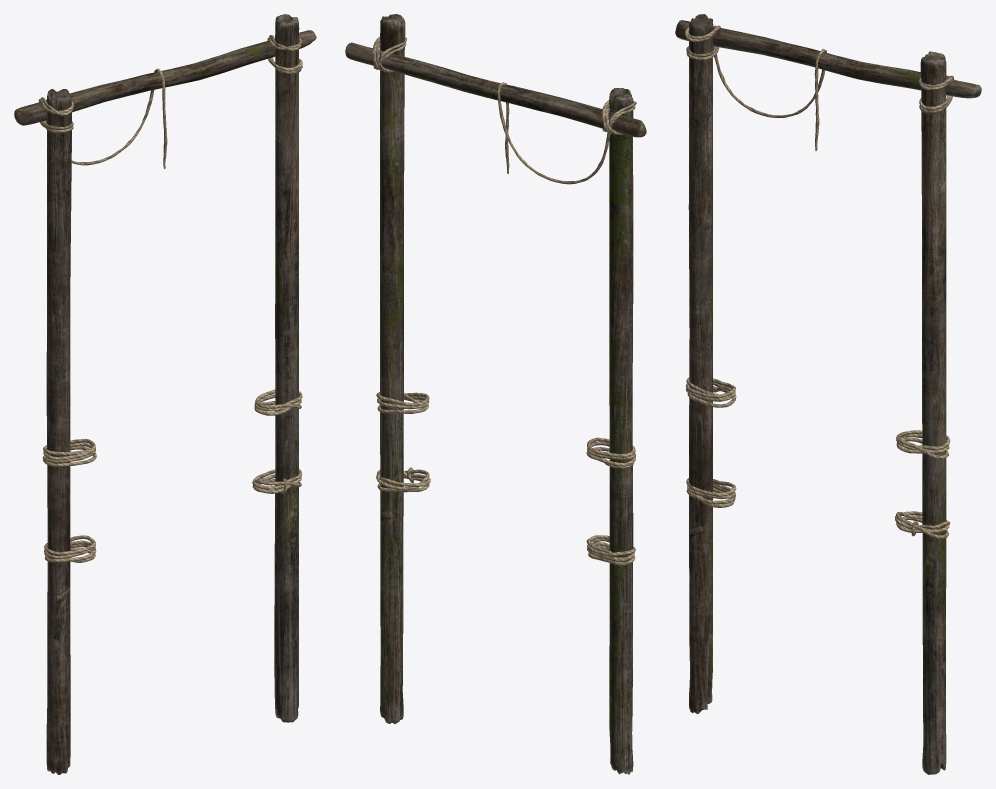
The picture shows the model from 3 angles, left to right: view 1: azimuth 30°, elevation 25°; view 2: azimuth 150°, elevation 25°; view 3: azimuth 330°, elevation 25°; orthographic projection. The views are drawn at different scales.
Parts seen in each view (by area): view 1: modular_wooden_pier_kit__g_lod0; view 2: modular_wooden_pier_kit__g_lod0; view 3: modular_wooden_pier_kit__g_lod0.
Boxes of the visible parts, x1,y1,x2,y2 form: modular_wooden_pier_kit__g_lod0: [14, 14, 316, 774]; modular_wooden_pier_kit__g_lod0: [345, 14, 646, 774]; modular_wooden_pier_kit__g_lod0: [675, 14, 981, 774].
Bounding box in the file's own units: 3.1 × 7 × 0.4646.
2 materials, 2 textured.
